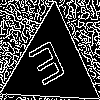E: (26, 39, 72, 96)
